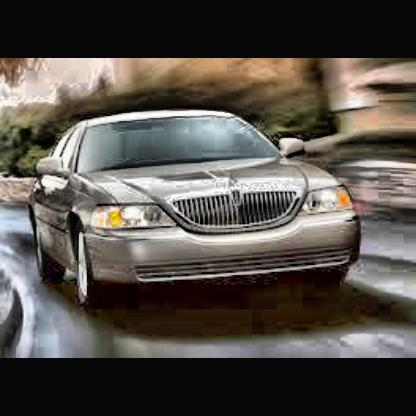Lincoln Town Car Sedan 2011: (23, 104, 371, 323)
